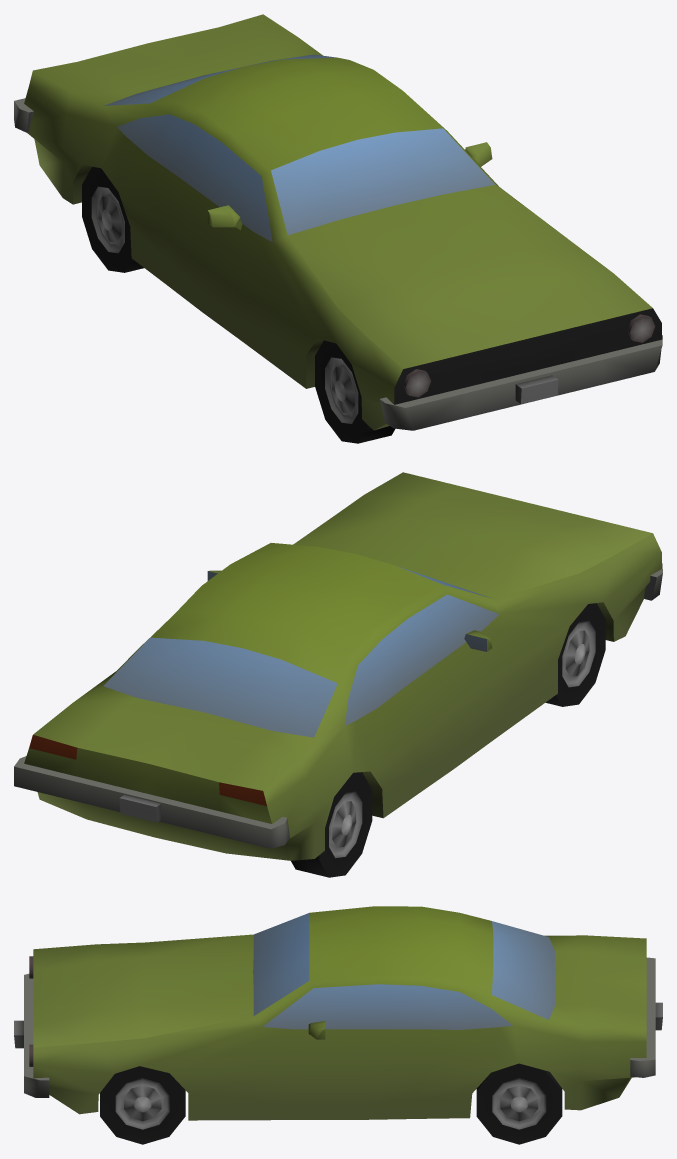
The picture shows the model from 3 angles, top to bottom: view 1: azimuth 30°, elevation 25°; view 2: azimuth 150°, elevation 25°; view 3: azimuth 270°, elevation 25°; orthographic projection. The views are drawn at different scales.
Visible parts, largest first — view 1: color.082; view 2: color.082; view 3: color.082.
Boxes of the visible parts, bbox=[...] form: color.082: bbox=[14, 14, 662, 443]; color.082: bbox=[14, 472, 662, 877]; color.082: bbox=[14, 906, 662, 1144].
Size of the model in its own units: 0.2006 by 0.1406 by 0.5.
